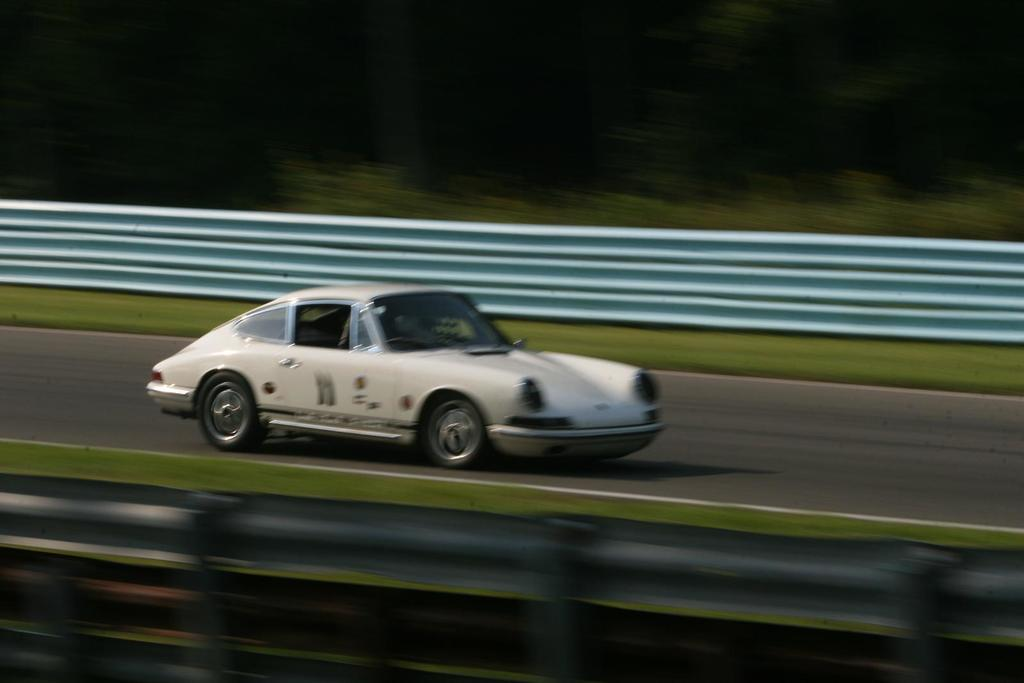mobil: (132, 279, 686, 483)
